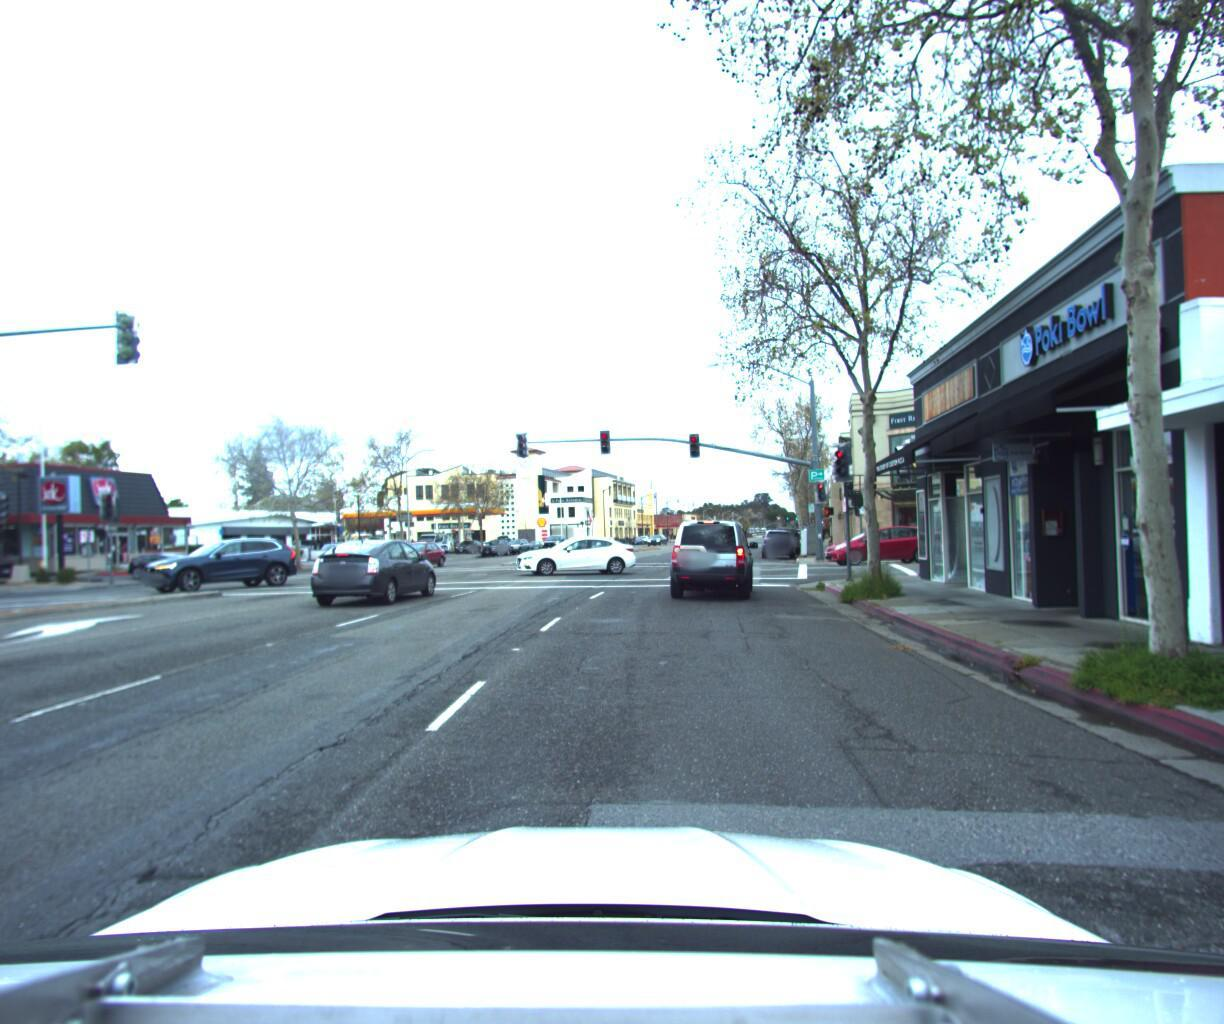car: (297, 543, 445, 618), (137, 541, 304, 602), (667, 513, 755, 604), (511, 538, 639, 584), (814, 530, 940, 574), (388, 546, 452, 576), (761, 535, 793, 569), (478, 548, 512, 565), (541, 542, 574, 559), (503, 547, 533, 563)
